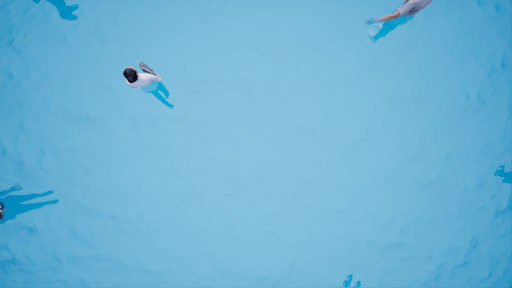person: (121, 61, 183, 113)
